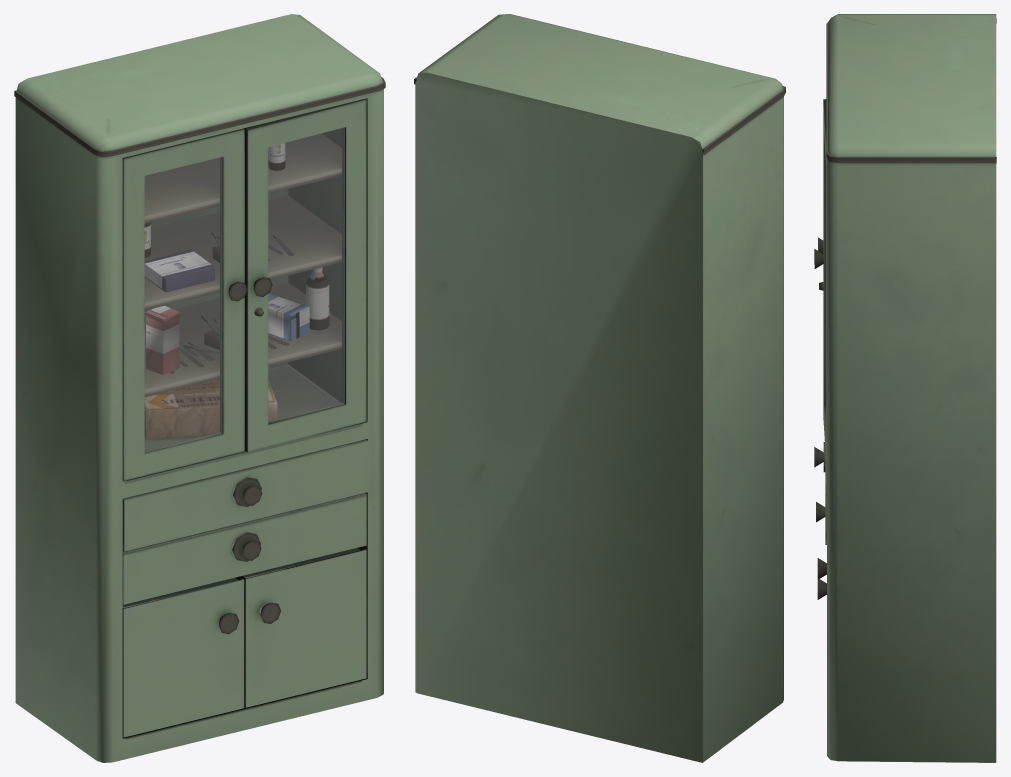
Rendered from Cupboard.fbx.
3 views of the same model, side by side, from view 1: azimuth 30°, elevation 25°; view 2: azimuth 150°, elevation 25°; view 3: azimuth 270°, elevation 25° (orthographic).
Parts seen in each view (by area): view 1: Cupboard; view 2: Cupboard; view 3: Cupboard.
Part boxes in pixels (x1,y1,x2,y2): Cupboard: (14,14,385,762); Cupboard: (414,14,785,762); Cupboard: (814,14,996,762).
Bounding box in the file's own units: 91.64 × 188 × 50.58.
Materials: 2 (1 with a texture image).
